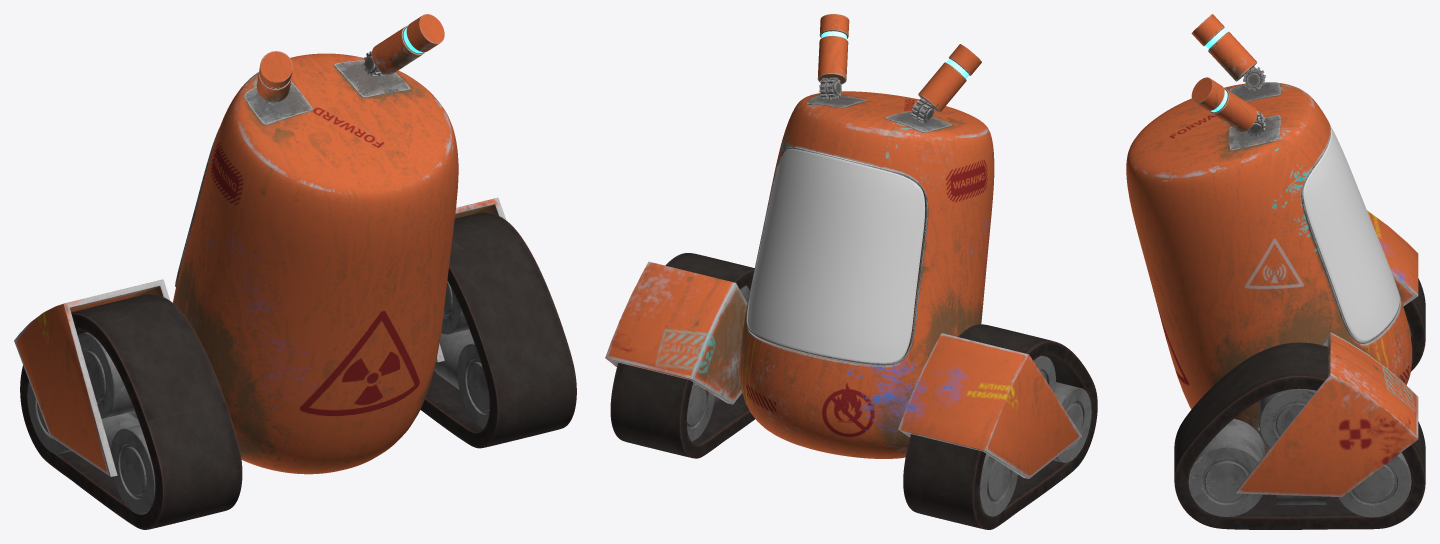
The model's file is 机器人1.fbx.
3 renders of one model, left to right at view 1: azimuth 30°, elevation 25°; view 2: azimuth 150°, elevation 25°; view 3: azimuth 270°, elevation 25°, orthographic. The views are drawn at different scales.
Visible parts, largest first — view 1: 柱体.023, 柱体.024, 柱体.017, 柱体.001; view 2: 柱体.023, Retopo_立方体.004, 柱体.024, 柱体.017, 柱体.001, Retopo_立方体.003; view 3: 柱体.023, 柱体.024, Retopo_立方体.004, 柱体.017, 柱体.001, Retopo_立方体.003.
Boxes of the visible parts, box(x1,y1,x2,y2) form: 柱体.023: box(14, 53, 506, 476); 柱体.024: box(20, 14, 576, 529); 柱体.017: box(27, 281, 489, 514); 柱体.001: box(244, 51, 410, 124); 柱体.023: box(605, 91, 1081, 478); Retopo_立方体.004: box(747, 147, 925, 365); 柱体.024: box(610, 14, 1097, 529); 柱体.017: box(686, 285, 1091, 516); 柱体.001: box(807, 77, 951, 132); Retopo_立方体.003: box(746, 147, 928, 365); 柱体.023: box(1126, 83, 1418, 497); 柱体.024: box(1174, 14, 1425, 529); Retopo_立方体.004: box(1303, 125, 1399, 341); 柱体.017: box(1188, 321, 1411, 517); 柱体.001: box(1229, 66, 1280, 150); Retopo_立方体.003: box(1301, 134, 1400, 343).
Size of the model in its own units: 149 by 143 by 98.1.
